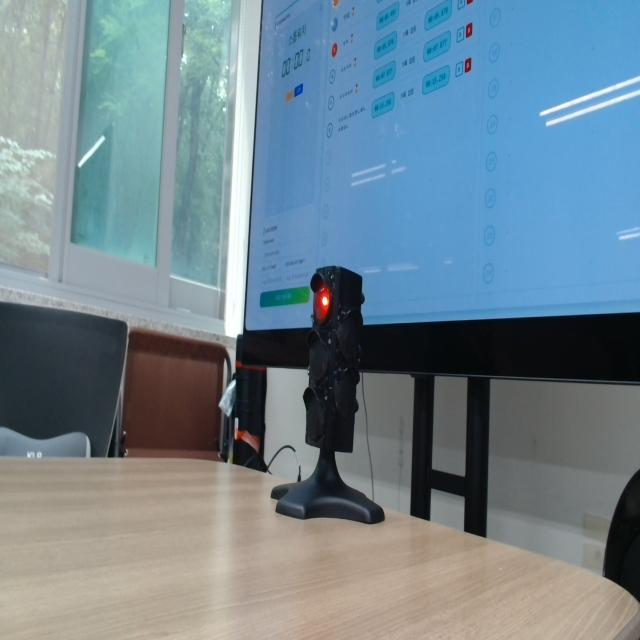red_light: (314, 285, 330, 323)
